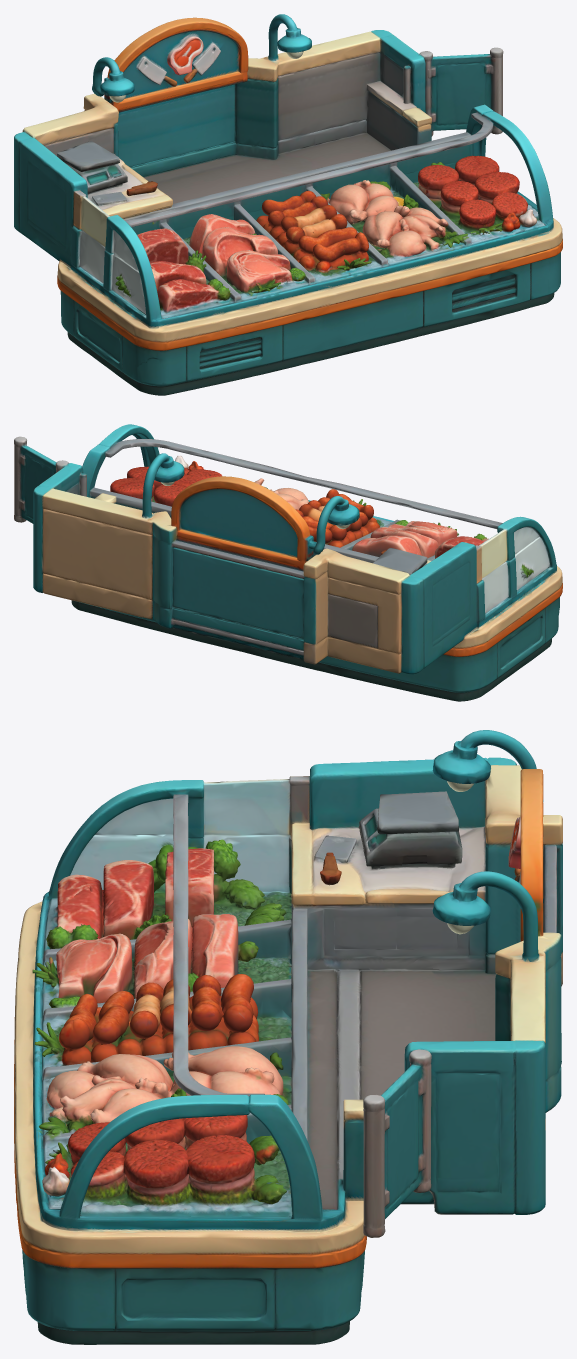
Rendered from ButcherDisplay.glb.
The picture shows the model from 3 angles, top to bottom: view 1: azimuth 30°, elevation 25°; view 2: azimuth 150°, elevation 25°; view 3: azimuth 270°, elevation 25°; orthographic projection. The views are drawn at different scales.
Visible parts, largest first — view 1: tripo_node_2657b4c7-289e-4c63-89eb-e8010dac5a24; view 2: tripo_node_2657b4c7-289e-4c63-89eb-e8010dac5a24; view 3: tripo_node_2657b4c7-289e-4c63-89eb-e8010dac5a24.
Boxes of the visible parts, bbox=[...] form: tripo_node_2657b4c7-289e-4c63-89eb-e8010dac5a24: bbox=[14, 14, 562, 395]; tripo_node_2657b4c7-289e-4c63-89eb-e8010dac5a24: bbox=[14, 424, 562, 701]; tripo_node_2657b4c7-289e-4c63-89eb-e8010dac5a24: bbox=[14, 730, 562, 1344].
Bounding box in the file's own units: 0.9796 × 0.4591 × 0.6142.
1 material, 1 textured.
